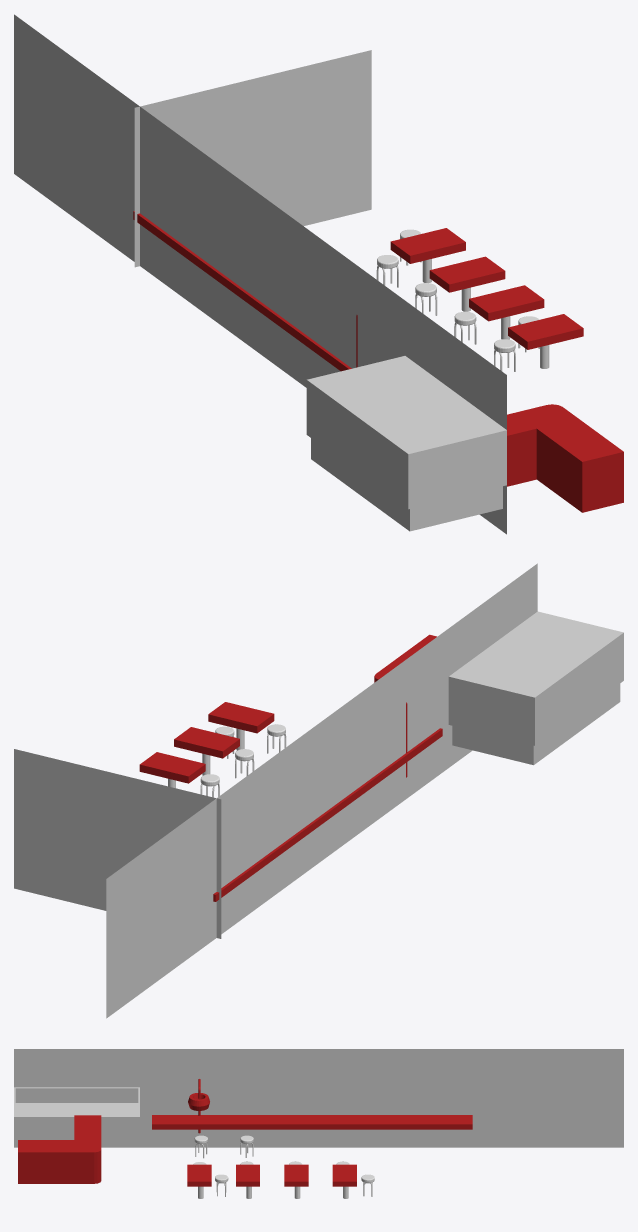
Rendered from Ramen interior.fbx.
3 views of the same model, one above another, from view 1: azimuth 30°, elevation 25°; view 2: azimuth 150°, elevation 25°; view 3: azimuth 270°, elevation 25° (orthographic). The views are drawn at different scales.
Visible parts, largest first — view 1: Plane.003, Plane.002, Cube.006, Cube.110, Cube.109, Cylinder.056; view 2: Plane.003, Plane.002, Cube.110, Cube.109; view 3: Plane.003, Cube.109, Cube.006, Cube.110, Torus, Cylinder.056.
Boxes of the visible parts, x1,y1,x2,y2 form: Plane.003: [14, 14, 506, 534]; Plane.002: [134, 50, 371, 267]; Cube.006: [507, 404, 623, 512]; Cube.110: [390, 228, 583, 349]; Cube.109: [133, 211, 351, 371]; Cylinder.056: [422, 259, 549, 368]; Plane.003: [106, 563, 623, 1018]; Plane.002: [14, 749, 221, 938]; Cube.110: [139, 702, 274, 783]; Cube.109: [213, 728, 442, 901]; Plane.003: [14, 1049, 623, 1147]; Cube.109: [152, 1115, 472, 1129]; Cube.006: [18, 1115, 101, 1183]; Cube.110: [187, 1164, 356, 1186]; Torus: [188, 1093, 209, 1110]; Cylinder.056: [198, 1186, 348, 1198].
Size of the model in its own units: 1357 by 627 by 3511.
